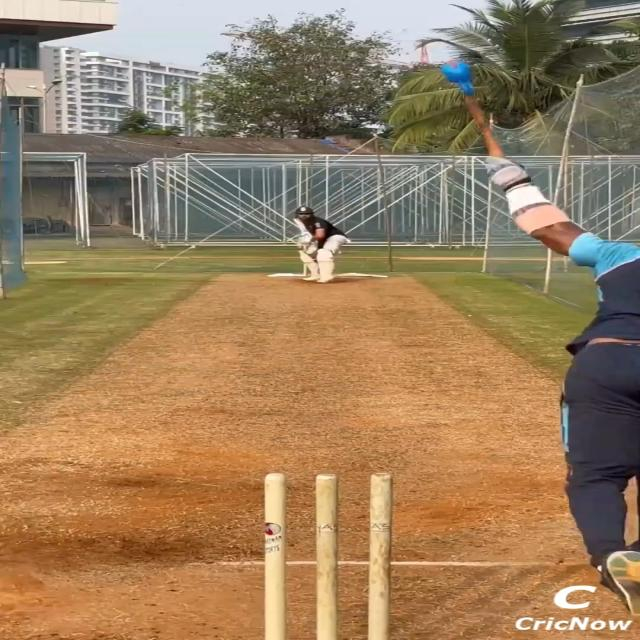stump: (258, 468, 394, 640)
